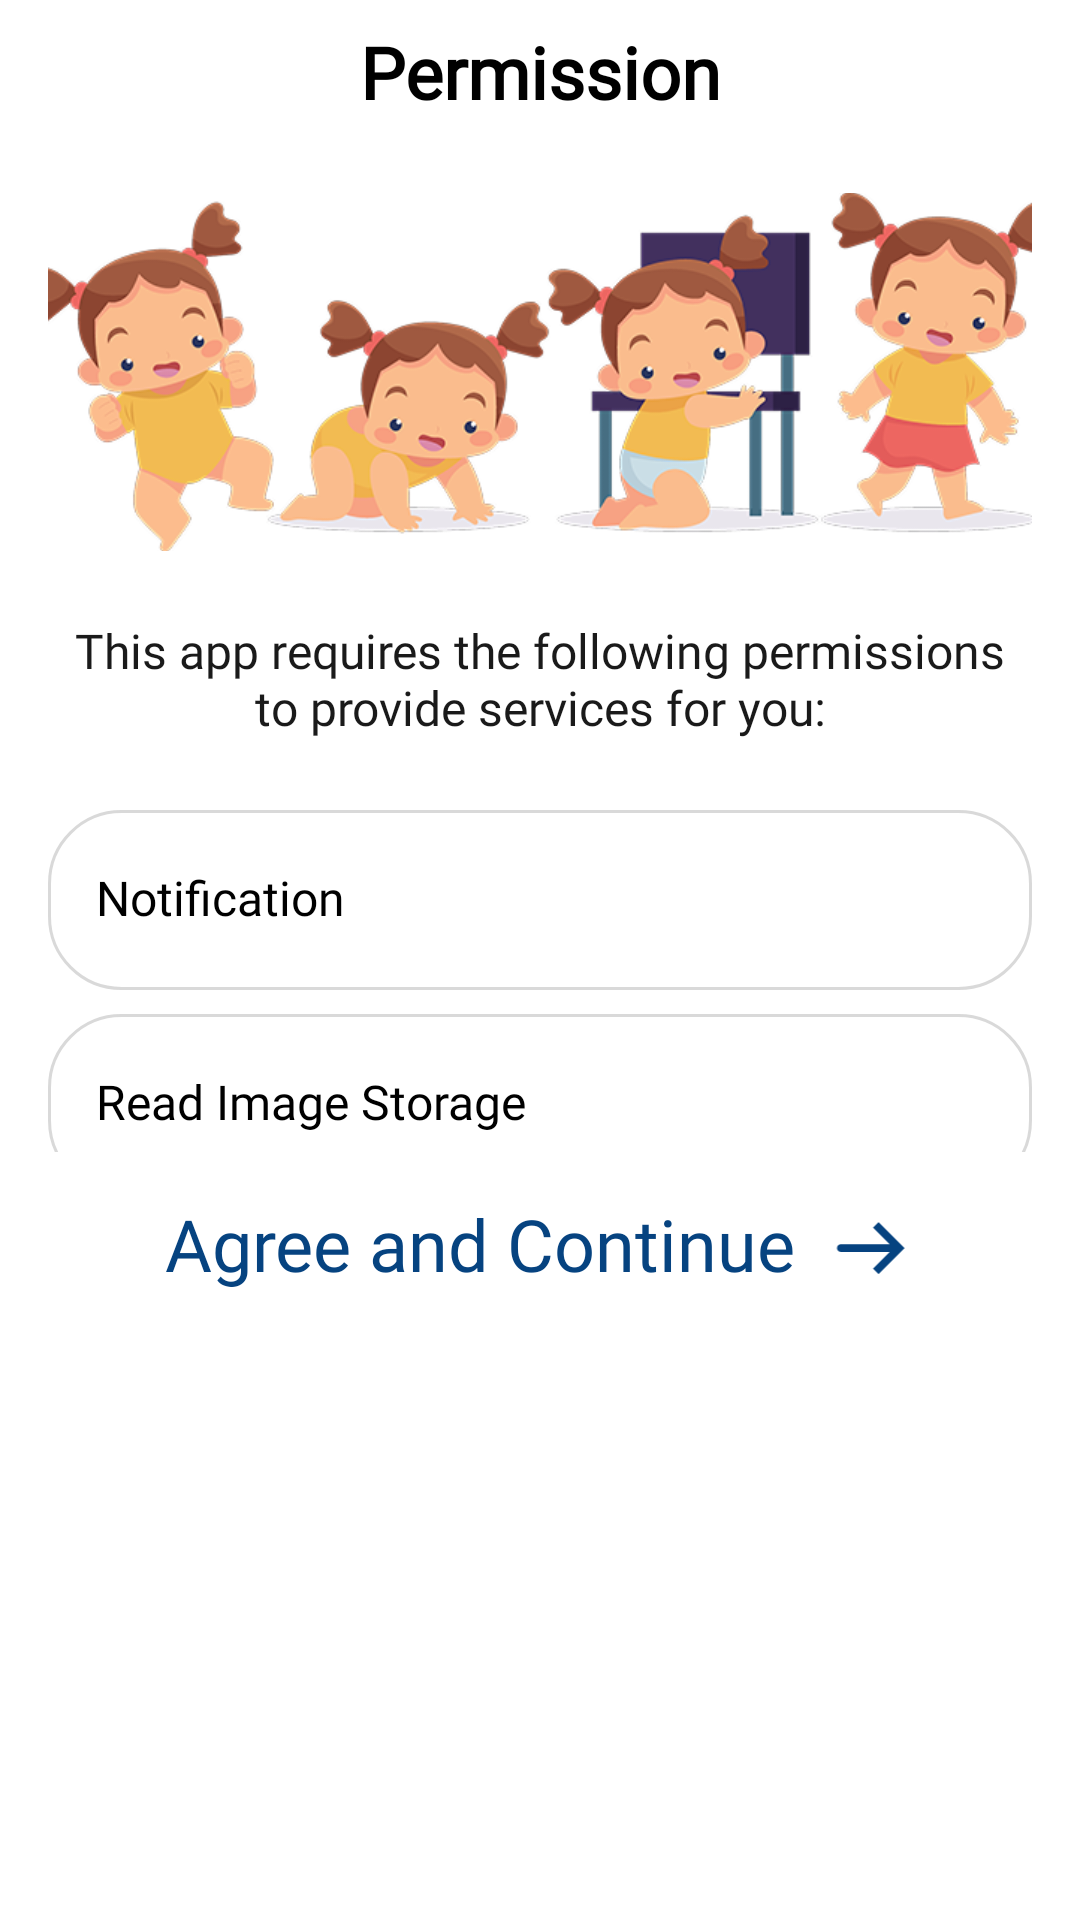

Locate icon controls on the screen. Image size 1080px×1920px, boxes as (x1, y1, x2, y2).
arrow right: (836, 1222, 905, 1274)
